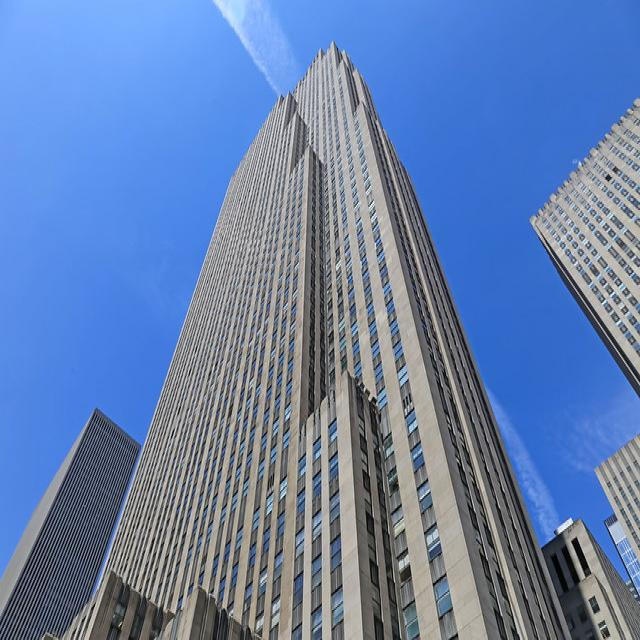Normal_building: (79, 33, 579, 640)
